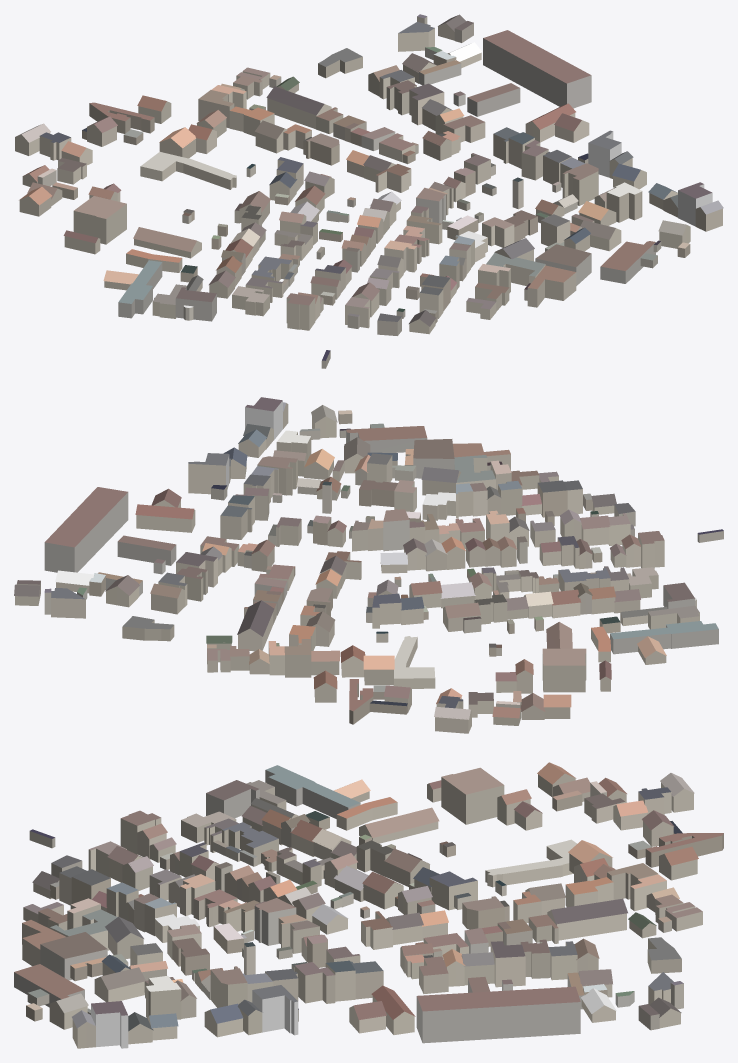
3 renders of one model, top to bottom at view 1: azimuth 30°, elevation 25°; view 2: azimuth 150°, elevation 25°; view 3: azimuth 270°, elevation 25°, orthographic. The views are drawn at different scales.
Parts seen in each view (by area): view 1: tuile; view 2: tuile; view 3: tuile.
Part boxes in pixels (x1,y1,x2,y2): tuile: [15, 14, 723, 368]; tuile: [14, 397, 723, 733]; tuile: [14, 762, 723, 1048].
Bounding box in the file's own units: 276 × 32.38 × 270.
